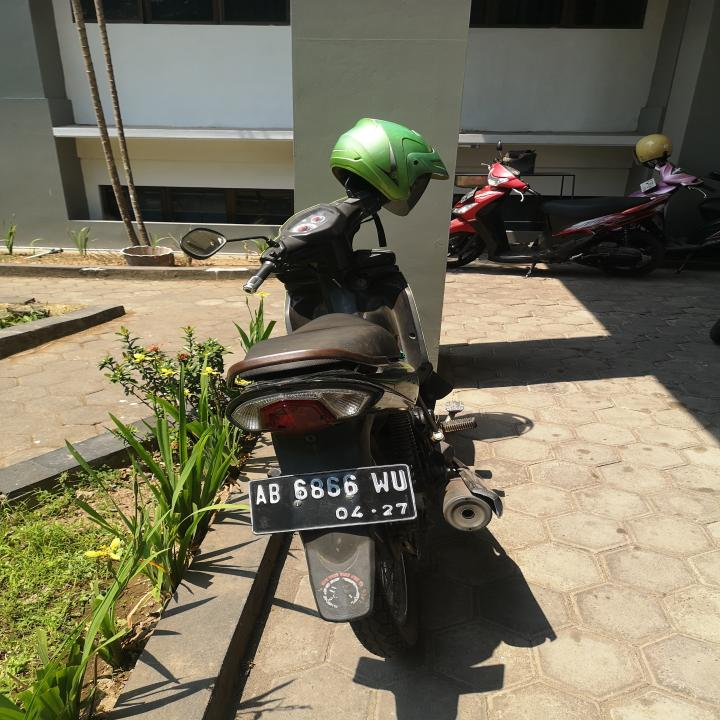plate: (248, 462, 423, 535)
